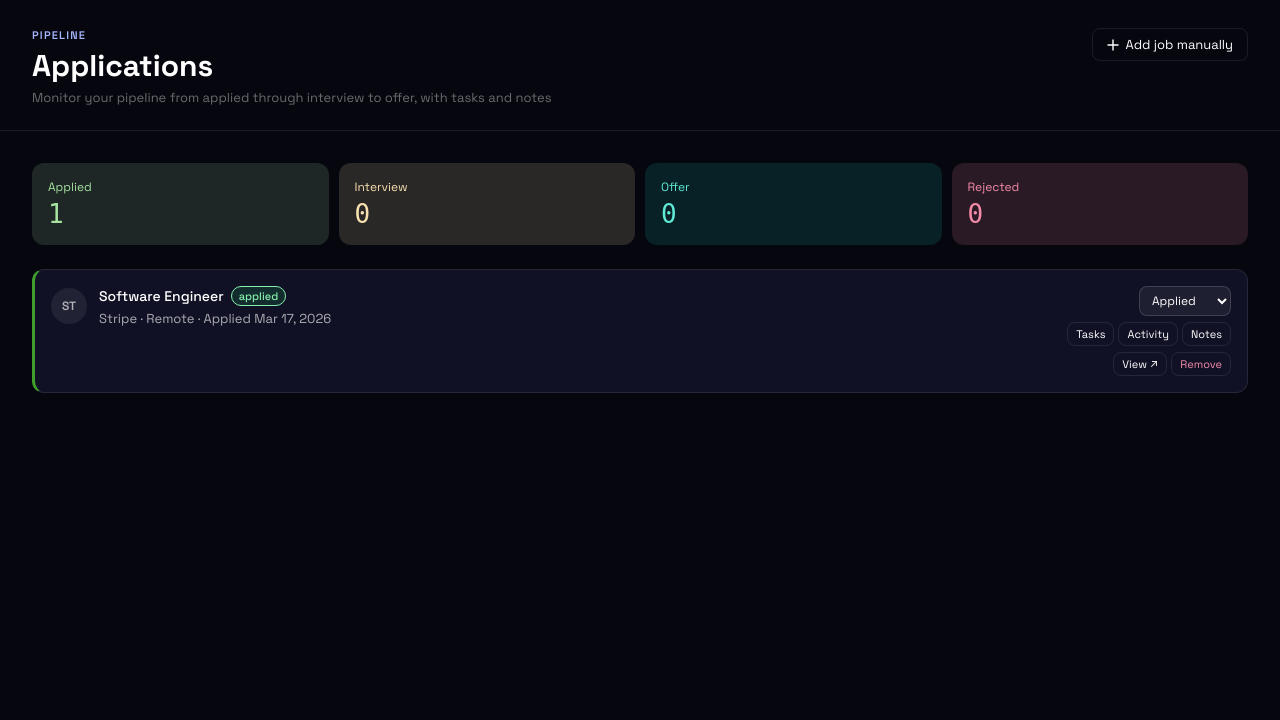
Scenario: ActivityModal › shows empty state when there are no activity entries
Click the button "Activity".
click(1148, 334)  # box [1118, 322, 1178, 346]
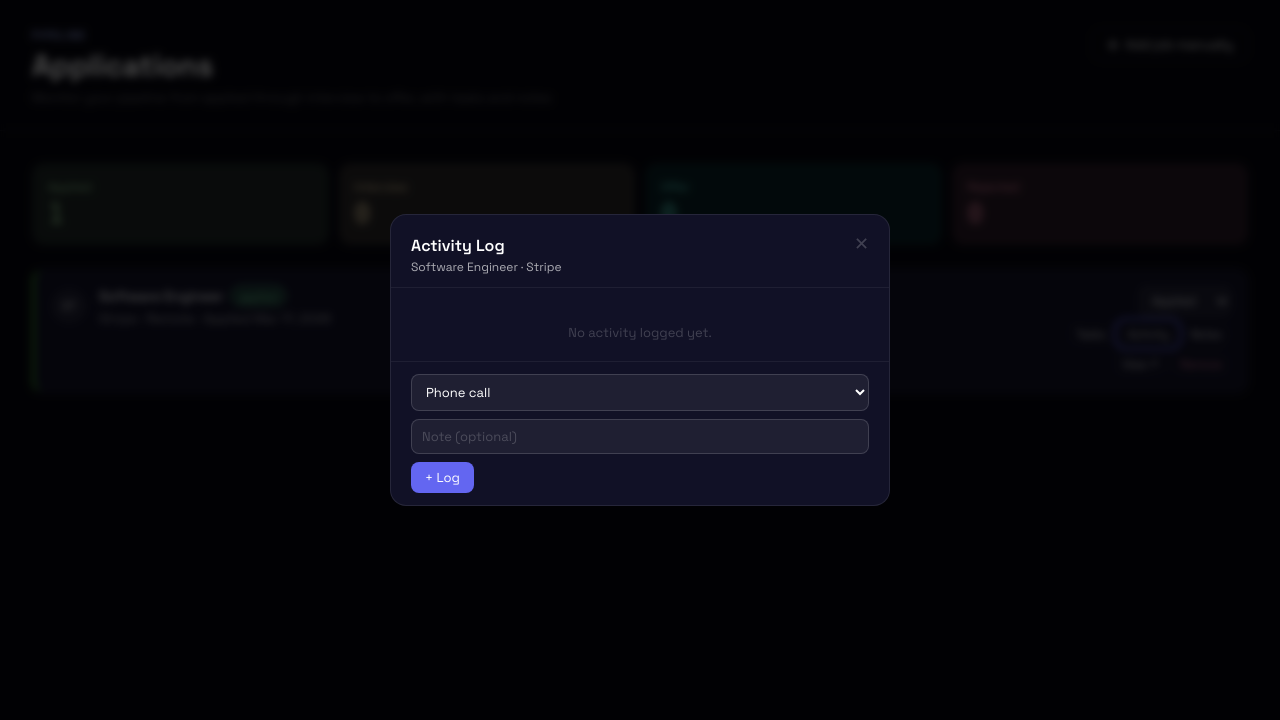
Result: the text "No activity logged yet." is shown at [568, 324, 712, 341]
